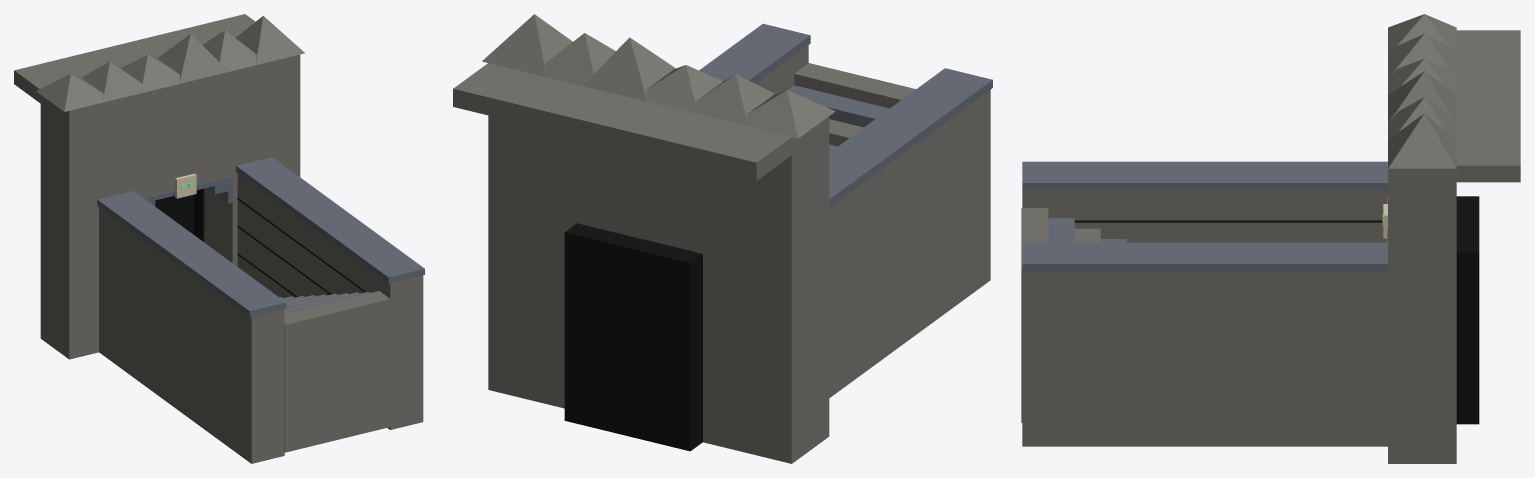
The model's file is camp_descent.glb.
3 views of the same model, side by side, from view 1: azimuth 30°, elevation 25°; view 2: azimuth 150°, elevation 25°; view 3: azimuth 270°, elevation 25° (orthographic). The views are drawn at different scales.
Visible parts, largest first — view 1: camp_descent; view 2: camp_descent; view 3: camp_descent.
Boxes of the visible parts, box(x1,y1,x2,y2) form: camp_descent: box(14, 14, 424, 463); camp_descent: box(453, 14, 992, 463); camp_descent: box(1021, 14, 1520, 463).
Bounding box in the file's own units: 7.3 × 8.15 × 10.92.
Materials: 1 (1 with a texture image).
